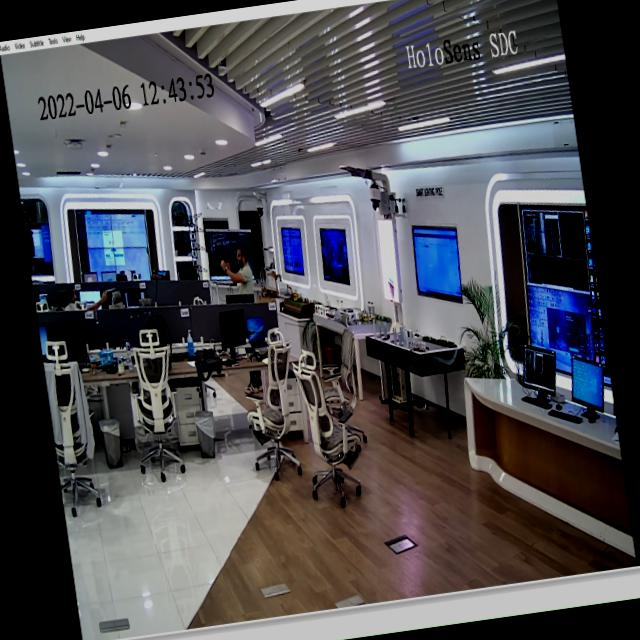long weapon: (208, 236, 238, 284)
